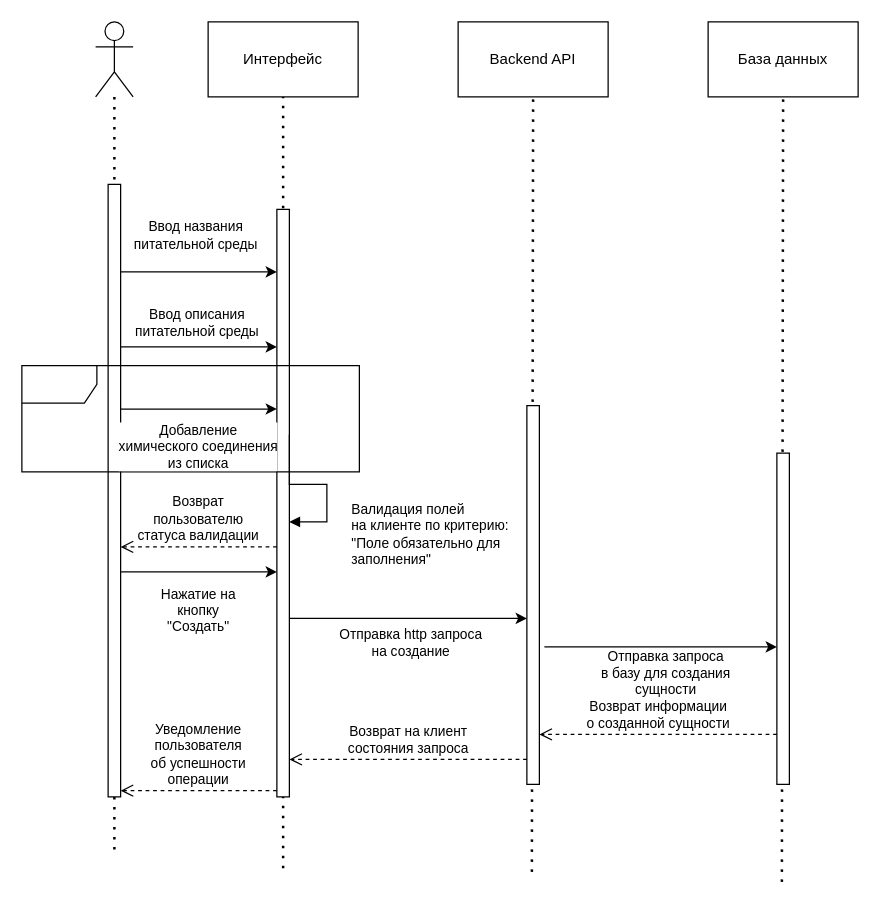
This 880x906 diagram has some shape labels left out. The shapes that lost their labels are listed below. From the top down, each one's centre as x and y in pixels, then its label:
(x=113, y=59): Администратор
(x=190, y=418): loop
